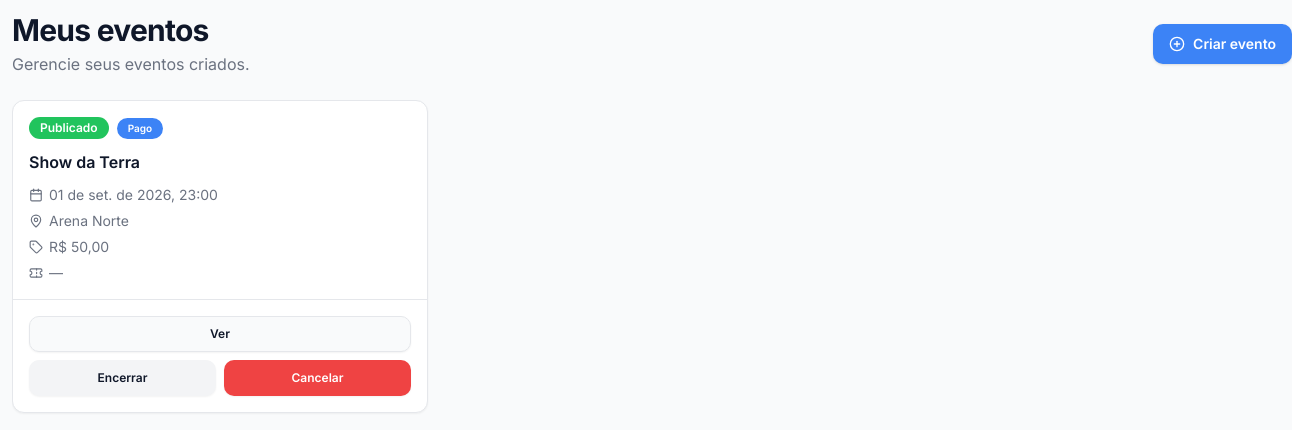
MeusEventos — botao Encerrar evento (US-043) › E — 409 TRANSICAO_INVALIDA exibe mensagem amigavel
Click the button "Encerrar": point(122, 378) [29,360,216,396]
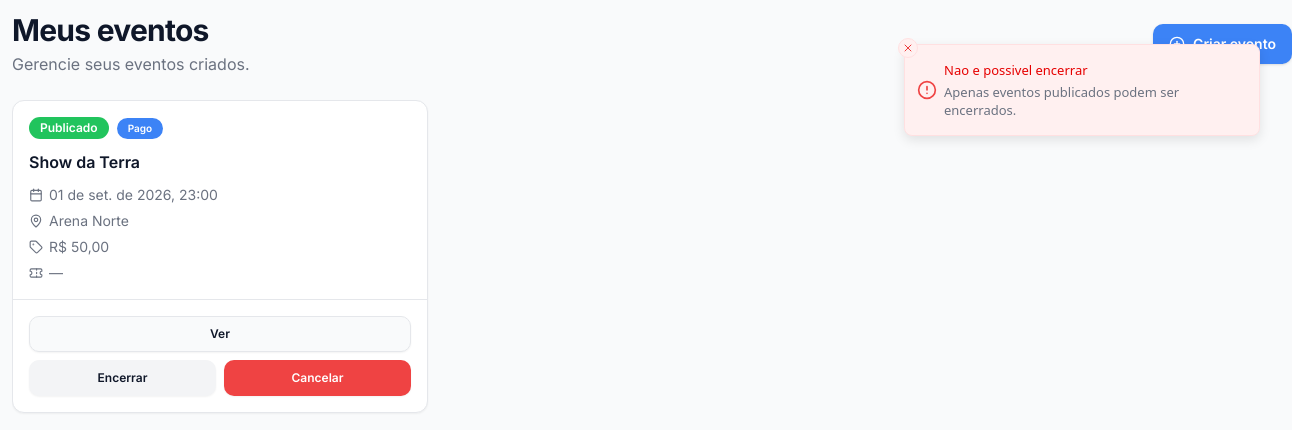
Check: the text "Nao e possivel encerrar" is shown, box [944,61,1088,79]
